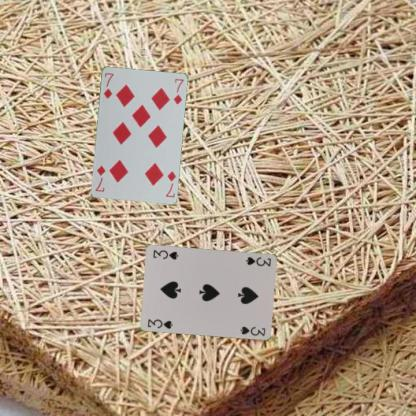3s: (145, 316, 175, 330), (243, 254, 272, 268)
7d: (163, 168, 177, 198), (101, 70, 115, 99)
